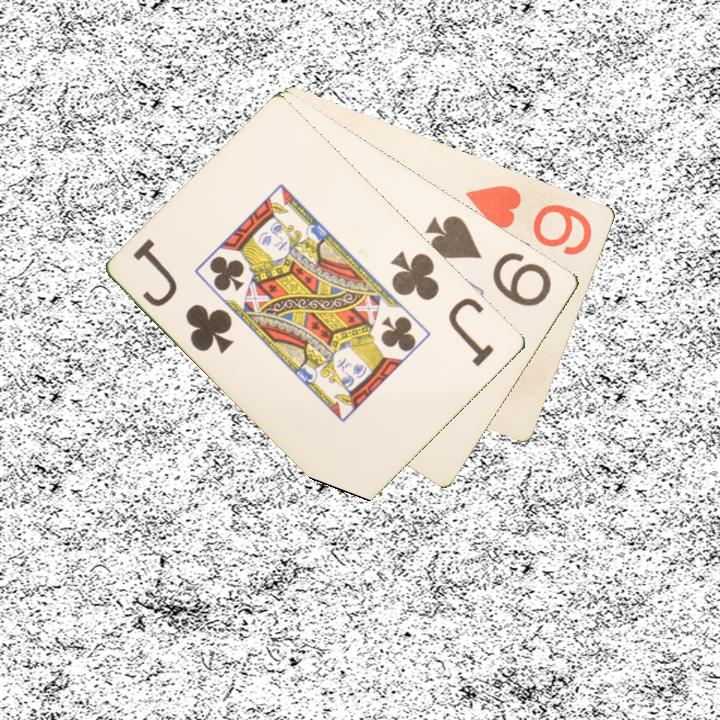6h: (462, 181, 596, 258)
9s: (422, 211, 556, 310)
Jc: (387, 247, 498, 370), (129, 234, 238, 357)
